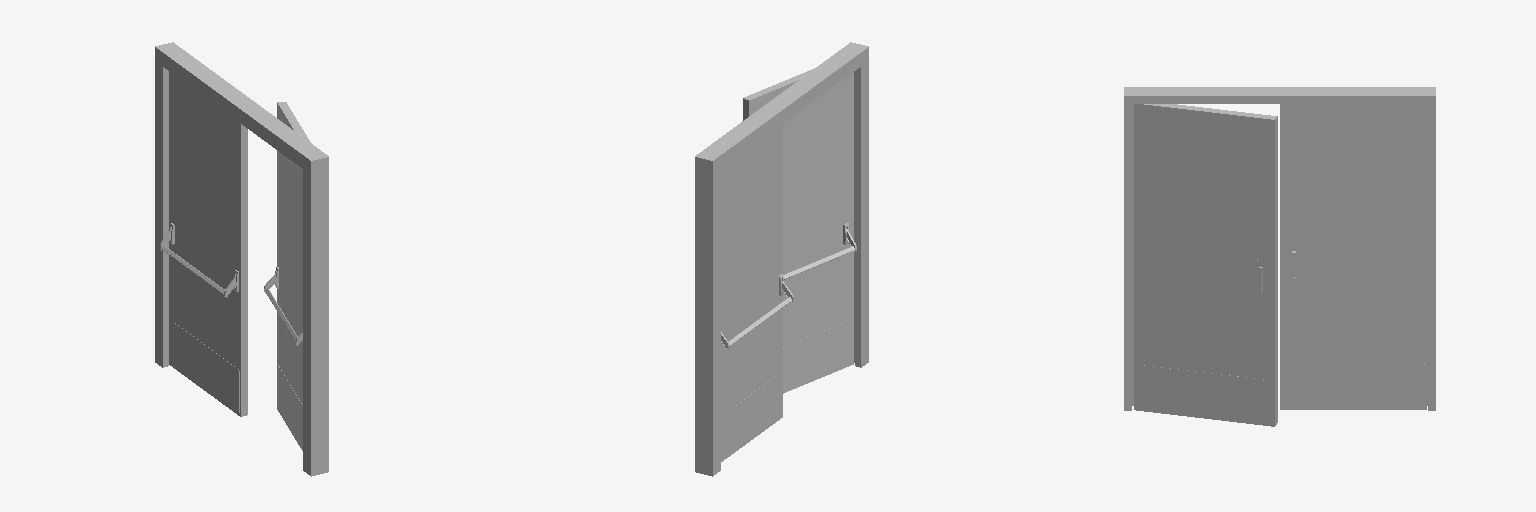
Rendered from fire door.obj.
3 views of the same model, side by side, from view 1: azimuth 30°, elevation 25°; view 2: azimuth 150°, elevation 25°; view 3: azimuth 270°, elevation 25° (orthographic).
Visible parts, largest first — view 1: group_1_ID17.003, group_0_ID4.003, group_2_ID99.003, SketchUp.005_ID426.003, SketchUp.003_ID403.004; view 2: group_0_ID4.003, group_2_ID99.003, group_1_ID17.003, SketchUp.003_ID403.004, SketchUp.005_ID426.003; view 3: group_1_ID17.003, group_2_ID99.003, group_0_ID4.003, SketchUp.006_ID436.003, SketchUp.007_ID446.003.
Boxes of the visible parts, x1,y1,x2,y2 form: group_1_ID17.003: [169, 71, 247, 416]; group_0_ID4.003: [155, 42, 328, 476]; group_2_ID99.003: [277, 102, 310, 450]; SketchUp.005_ID426.003: [171, 321, 238, 413]; SketchUp.003_ID403.004: [278, 366, 302, 449]; group_0_ID4.003: [695, 42, 868, 476]; group_2_ID99.003: [743, 68, 853, 393]; group_1_ID17.003: [721, 124, 782, 461]; SketchUp.003_ID403.004: [783, 321, 847, 391]; SketchUp.005_ID426.003: [721, 373, 781, 460]; group_1_ID17.003: [1280, 104, 1426, 409]; group_2_ID99.003: [1134, 104, 1277, 426]; group_0_ID4.003: [1124, 87, 1435, 410]; SketchUp.006_ID436.003: [1283, 364, 1424, 407]; SketchUp.007_ID446.003: [1136, 365, 1271, 424].
Size of the model in its own units: 0.4406 by 2.36 by 2.12.